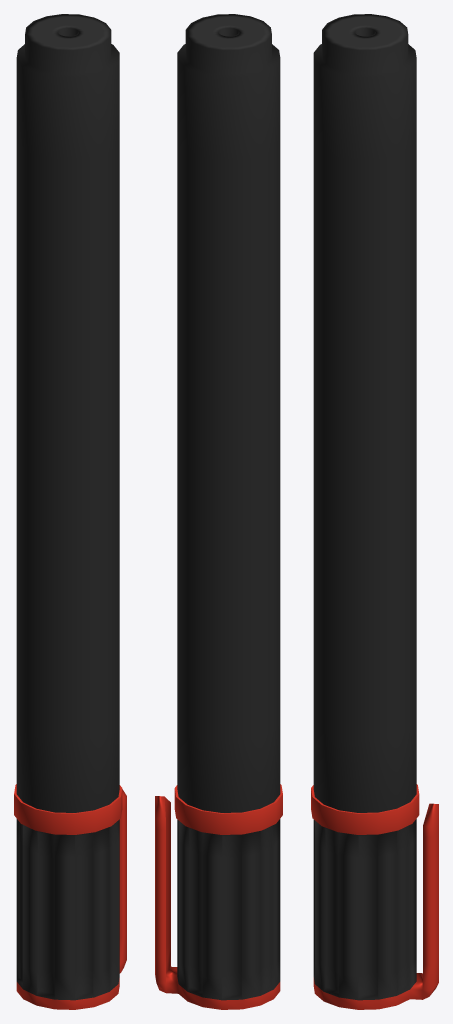
The model's file is Marker.fbx.
The picture shows the model from 3 angles, left to right: view 1: azimuth 30°, elevation 25°; view 2: azimuth 150°, elevation 25°; view 3: azimuth 330°, elevation 25°; orthographic projection.
Visible parts, largest first — view 1: Cylinder, Cylinder.001; view 2: Cylinder, Cylinder.001; view 3: Cylinder, Cylinder.001.
Part boxes in pixels (x1,y1,x2,y2): Cylinder: (16,14,119,812); Cylinder.001: (14,784,126,1009); Cylinder: (177,14,280,812); Cylinder.001: (155,784,282,1009); Cylinder: (313,14,416,812); Cylinder.001: (311,784,438,1009).
Bounding box in the file's own units: 70.16 × 581 × 60.16.
